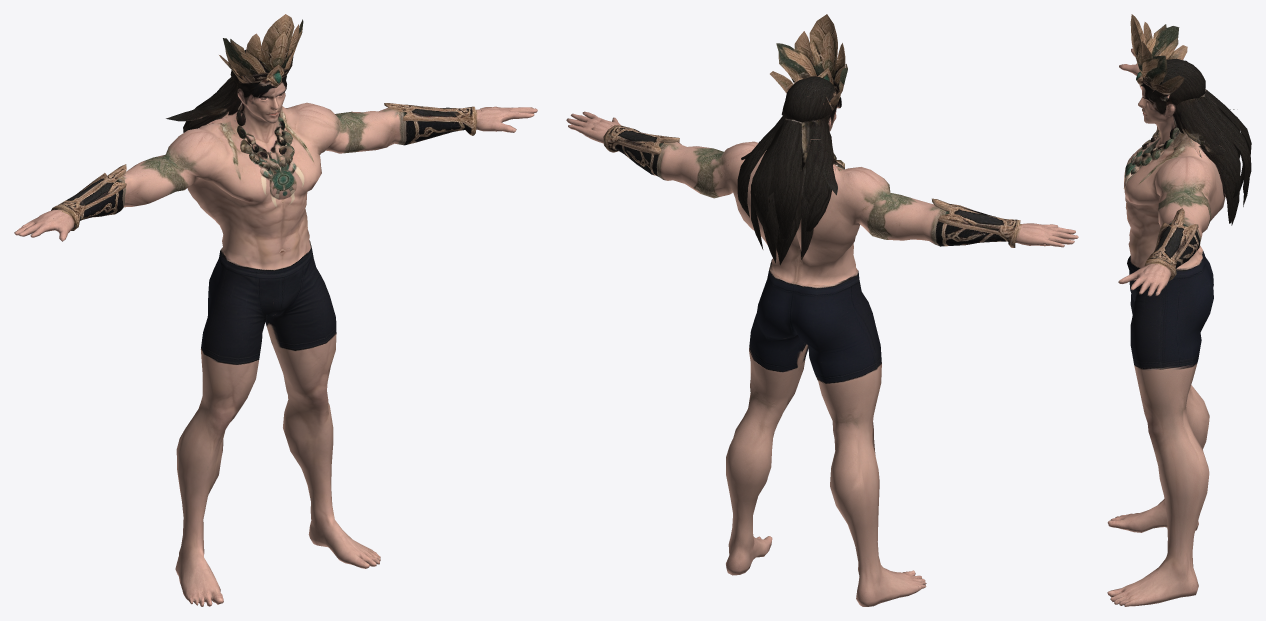
The model's file is son_tinh_v2_mesh.fbx.
The picture shows the model from 3 angles, left to right: view 1: azimuth 30°, elevation 25°; view 2: azimuth 150°, elevation 25°; view 3: azimuth 270°, elevation 25°; orthographic projection. The views are drawn at different scales.
Parts seen in each view (by area): view 1: Mesh_0; view 2: Mesh_0; view 3: Mesh_0.
Boxes of the visible parts, bbox=[...] form: Mesh_0: bbox=[14, 14, 537, 606]; Mesh_0: bbox=[566, 14, 1078, 606]; Mesh_0: bbox=[1107, 14, 1251, 606].
Bounding box in the file's own units: 96.13 × 100 × 23.78.
Materials: 1 (1 with a texture image).
